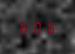six: (18, 19, 29, 33), (43, 20, 54, 34)
zero: (31, 19, 42, 34)
